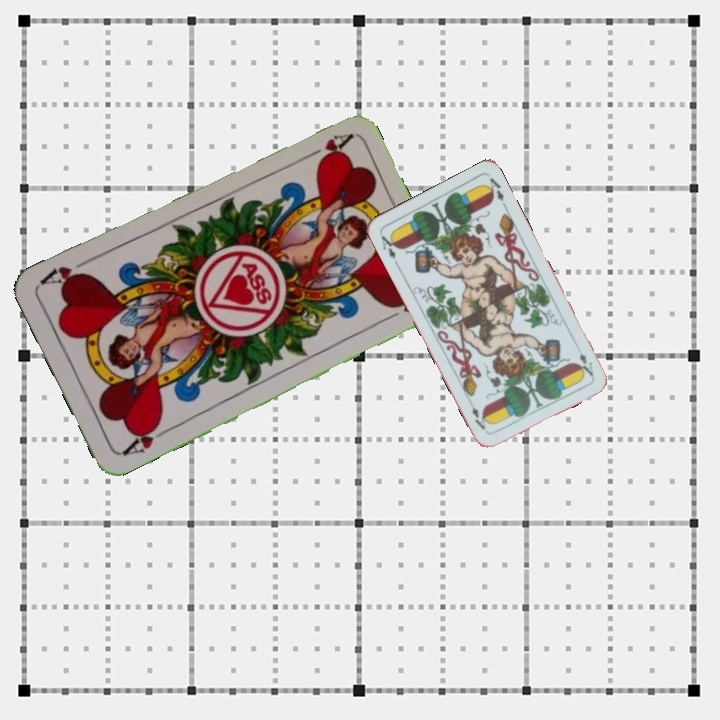EA: (376, 230, 401, 262), (575, 349, 596, 379)
HA: (117, 418, 173, 458), (298, 129, 354, 165)
